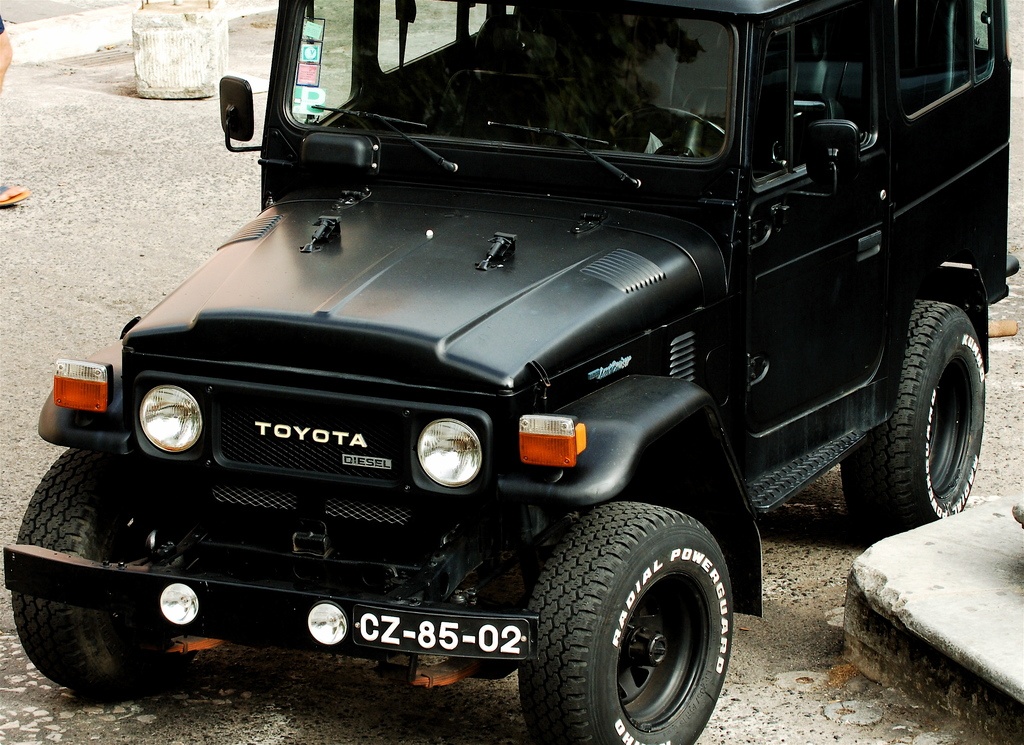person: (0, 2, 27, 207)
